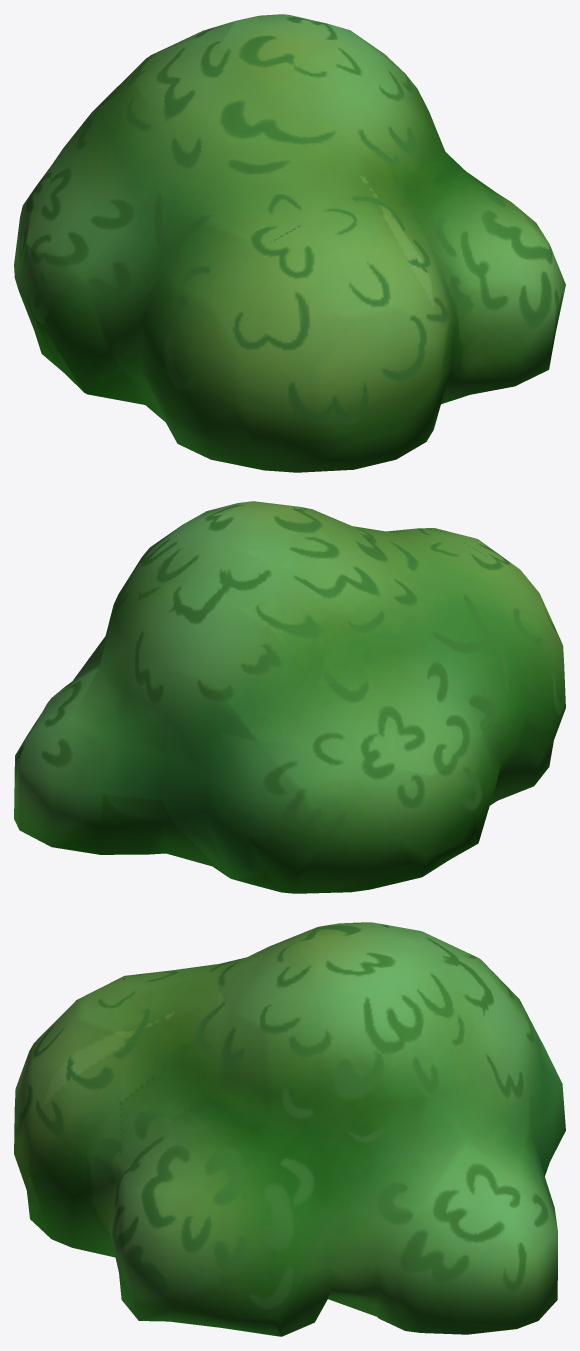
File: bash.fbx
3 renders of one model, top to bottom at view 1: azimuth 30°, elevation 25°; view 2: azimuth 150°, elevation 25°; view 3: azimuth 270°, elevation 25°, orthographic. The views are drawn at different scales.
Visible parts, largest first — view 1: bash; view 2: bash; view 3: bash.
Part boxes in pixels (x1=…): bash: x1=14, y1=14, x2=565, y2=472; bash: x1=14, y1=501, x2=565, y2=893; bash: x1=14, y1=922, x2=565, y2=1336.
Bounding box in the file's own units: 4.52 × 2.96 × 4.86.
